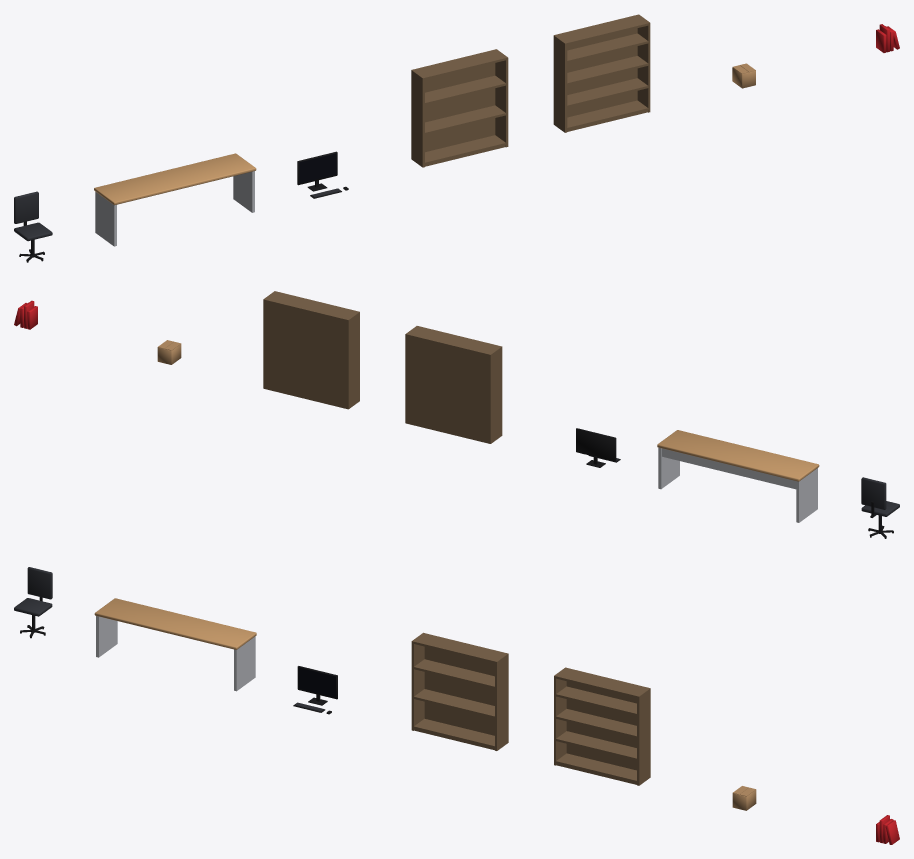
File: Furniture_01.glb
3 renders of one model, top to bottom at view 1: azimuth 30°, elevation 25°; view 2: azimuth 150°, elevation 25°; view 3: azimuth 330°, elevation 25°, orthographic.
Visible parts, largest first — view 1: ShelfThree_Frame, ShelfFour_Frame, Desk_Top, Desk_Frame, OfficeChair_Seat, Workstation_Screen, BookRow_Books; view 2: ShelfThree_Frame, ShelfFour_Frame, Desk_Top, Desk_Frame, Workstation_Body, OfficeChair_Seat, BookRow_Books, StorageBox_Body; view 3: ShelfThree_Frame, ShelfFour_Frame, Desk_Top, Desk_Frame, OfficeChair_Seat, Workstation_Screen.
Part boxes in pixels (<box>): ShelfThree_Frame: <box>411,49,508,167</box>; ShelfFour_Frame: <box>553,14,650,132</box>; Desk_Top: <box>94,153,256,205</box>; Desk_Frame: <box>95,171,254,246</box>; OfficeChair_Seat: <box>14,191,52,241</box>; Workstation_Screen: <box>299,153,336,183</box>; BookRow_Books: <box>876,24,899,52</box>; ShelfThree_Frame: <box>405,326,502,443</box>; ShelfFour_Frame: <box>263,291,359,409</box>; Desk_Top: <box>657,430,819,481</box>; Desk_Frame: <box>658,447,817,522</box>; Workstation_Body: <box>576,428,620,467</box>; OfficeChair_Seat: <box>861,477,899,516</box>; BookRow_Books: <box>14,300,37,329</box>; StorageBox_Body: <box>157,340,181,364</box>; ShelfThree_Frame: <box>411,632,508,750</box>; ShelfFour_Frame: <box>554,667,650,785</box>; Desk_Top: <box>94,598,256,649</box>; Desk_Frame: <box>96,616,255,691</box>; OfficeChair_Seat: <box>14,567,52,616</box>; Workstation_Screen: <box>298,667,335,697</box>.
Size of the model in its own units: 61.58 by 6 by 2.55.
